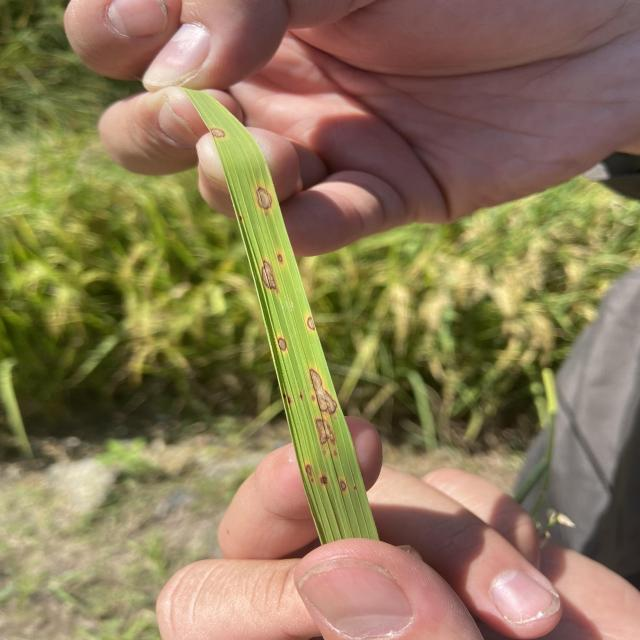Dao on: (309, 369, 338, 414), (261, 261, 279, 293), (316, 419, 336, 445), (256, 187, 271, 210), (210, 128, 226, 138), (278, 338, 286, 350), (308, 316, 314, 330), (276, 254, 284, 263), (320, 476, 328, 485), (341, 479, 347, 491), (306, 466, 312, 474), (288, 398, 292, 403), (265, 212, 269, 216), (323, 450, 327, 454), (312, 396, 315, 401), (354, 486, 356, 490)
